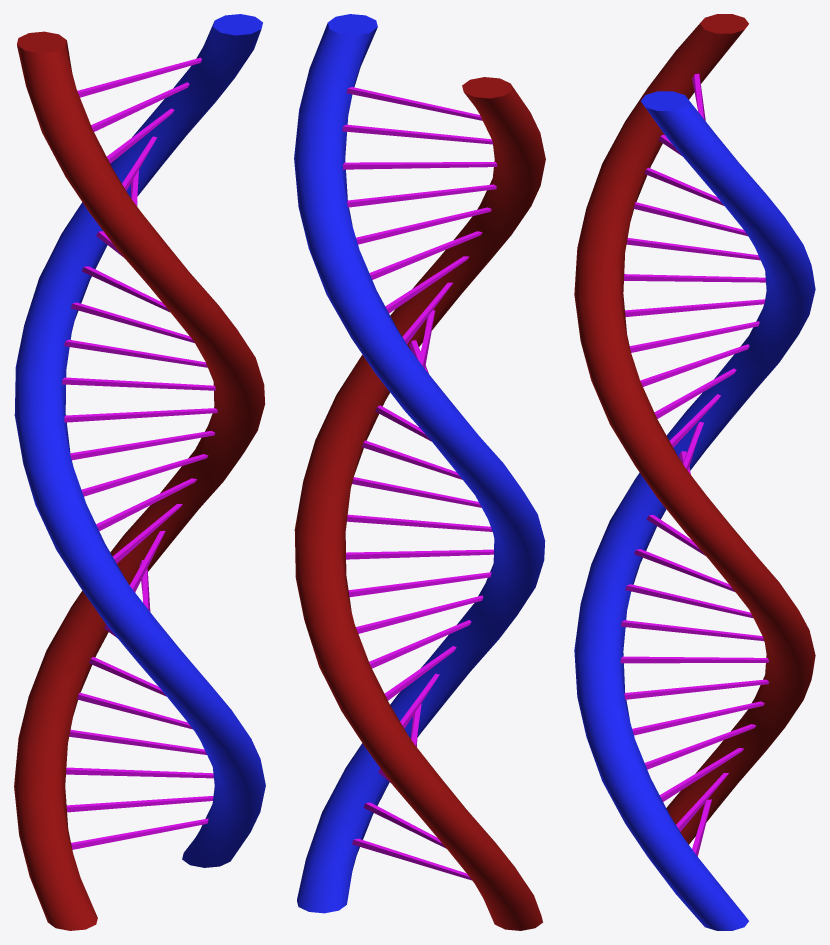
File: DNA.FBX
The picture shows the model from 3 angles, left to right: view 1: azimuth 30°, elevation 25°; view 2: azimuth 150°, elevation 25°; view 3: azimuth 270°, elevation 25°; orthographic projection. The views are drawn at different scales.
Parts seen in each view (by area): view 1: DNA; view 2: DNA; view 3: DNA.
Part boxes in pixels (bbox=[...]): DNA: bbox=[14, 14, 265, 930]; DNA: bbox=[294, 14, 545, 930]; DNA: bbox=[574, 14, 815, 930].
Bounding box in the file's own units: 16.41 × 16.4 × 61.51.
